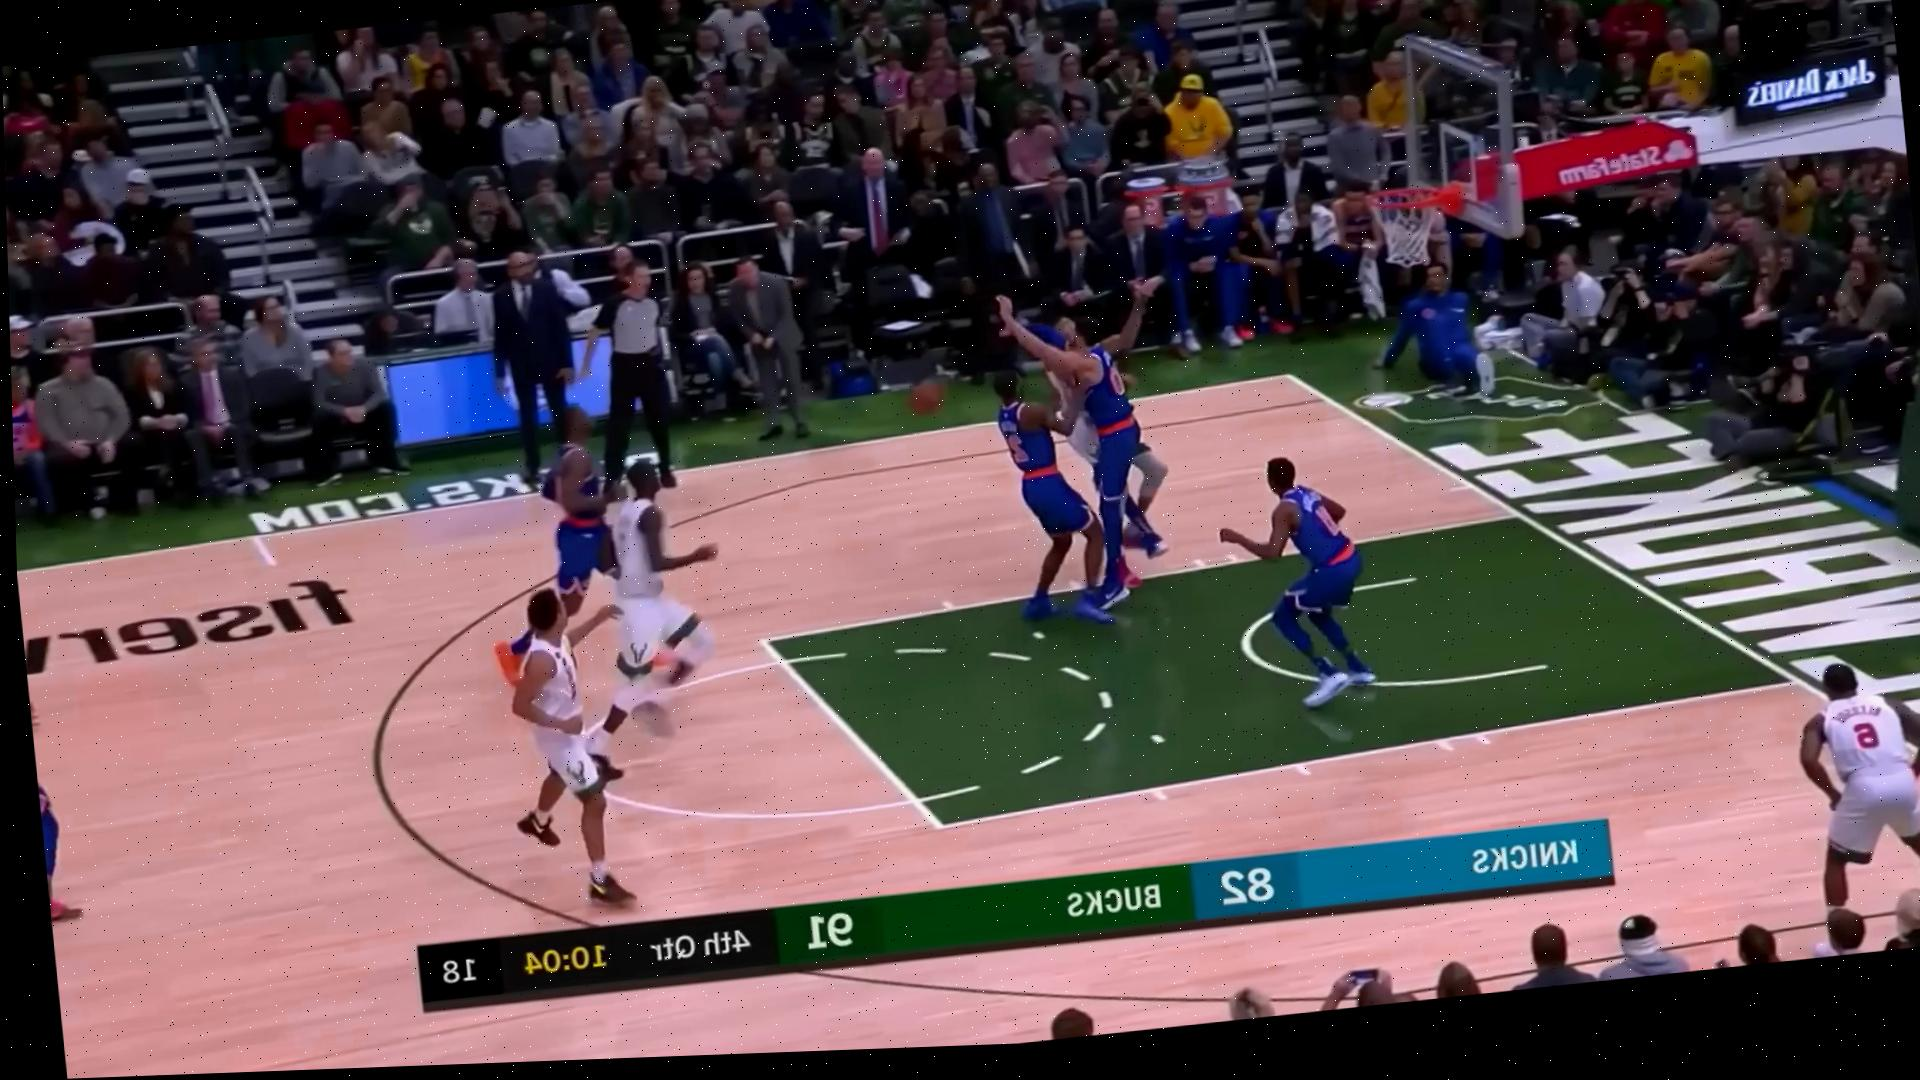foul: (969, 268, 1205, 636)
